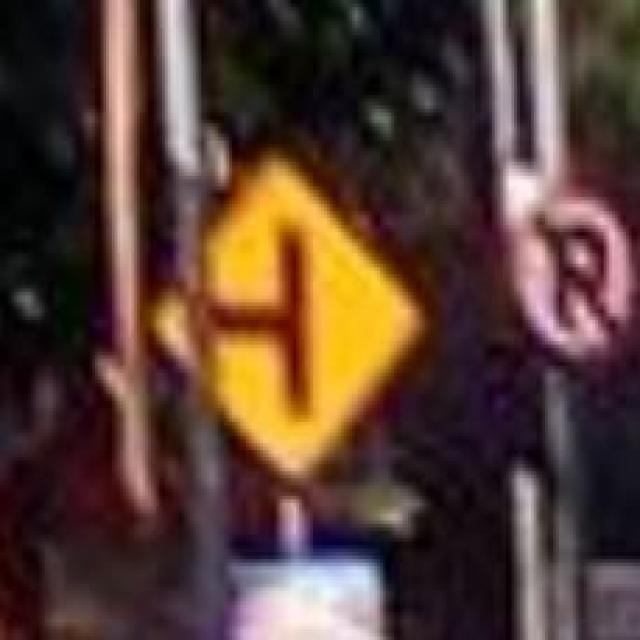traffic sign: (218, 165, 425, 474)
